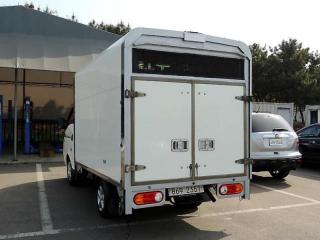1: (198, 185, 202, 192)
2: (185, 186, 190, 193)
5: (190, 186, 194, 193)
6: (176, 187, 179, 195), (194, 186, 197, 193)
8: (171, 187, 176, 195)
우: (179, 188, 184, 194)
